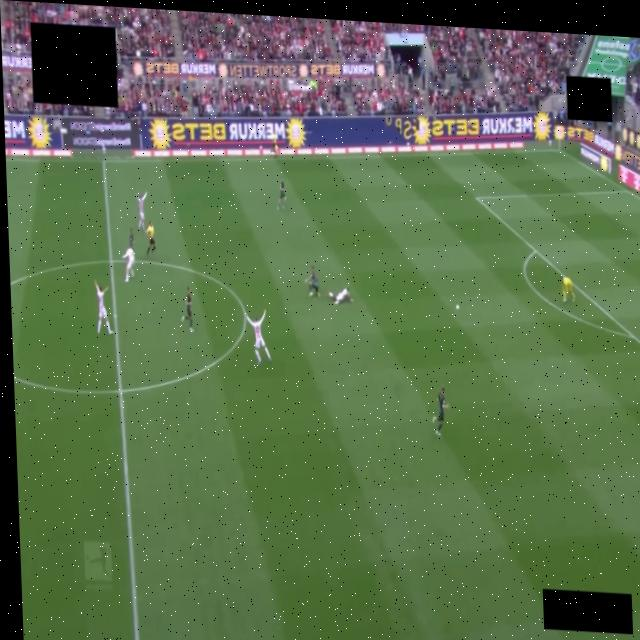ball: (455, 305, 458, 310)
player: (246, 311, 271, 364), (94, 282, 111, 334), (433, 385, 448, 435), (181, 288, 193, 332), (305, 266, 318, 296), (122, 247, 133, 282), (136, 192, 146, 230), (328, 287, 350, 304), (561, 277, 574, 302), (276, 180, 285, 210), (128, 228, 134, 248)
referee: (146, 221, 155, 254)
